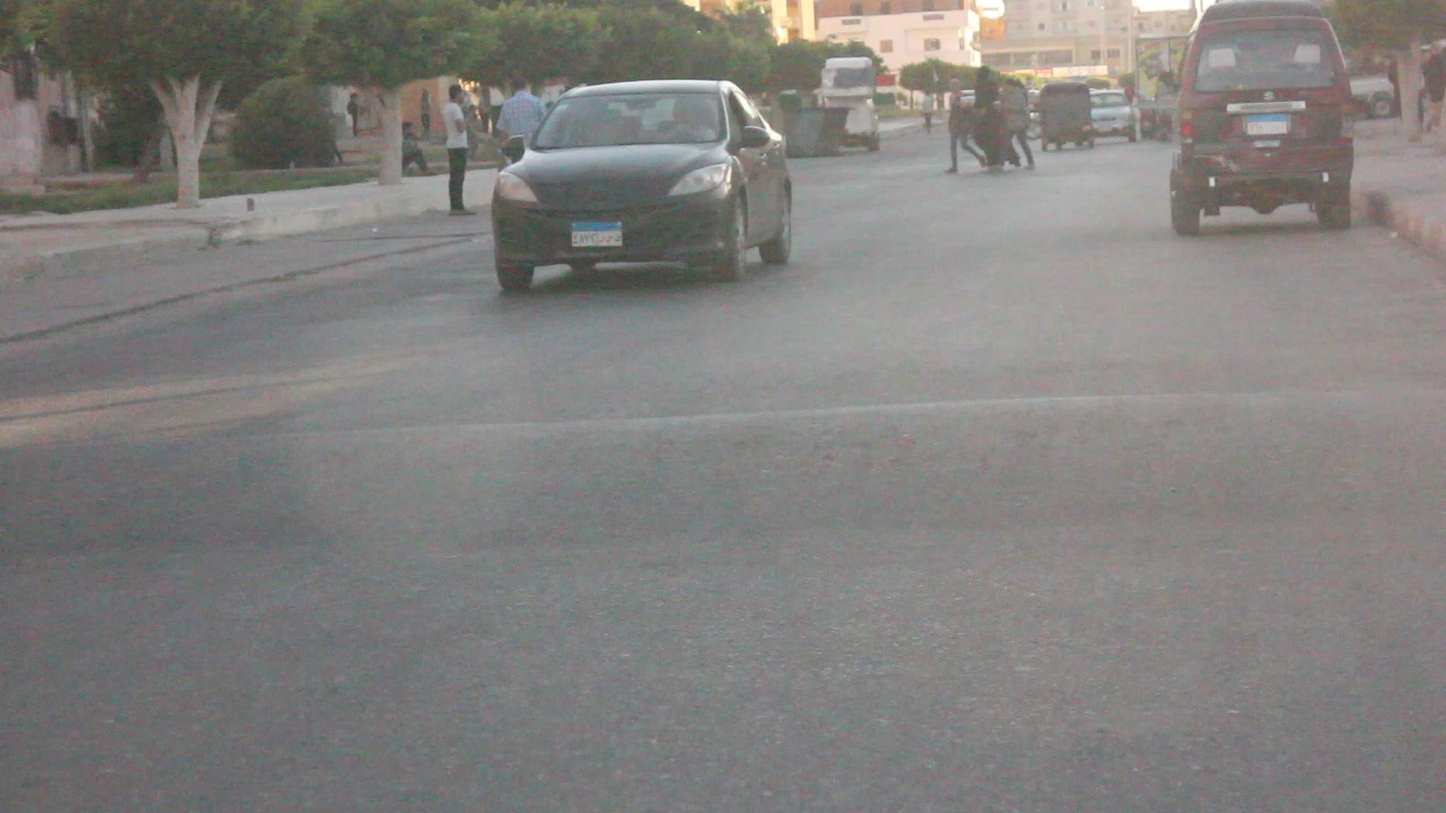Bump: (0, 368, 1445, 570)
